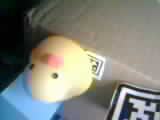duck: (16, 35, 86, 95)
